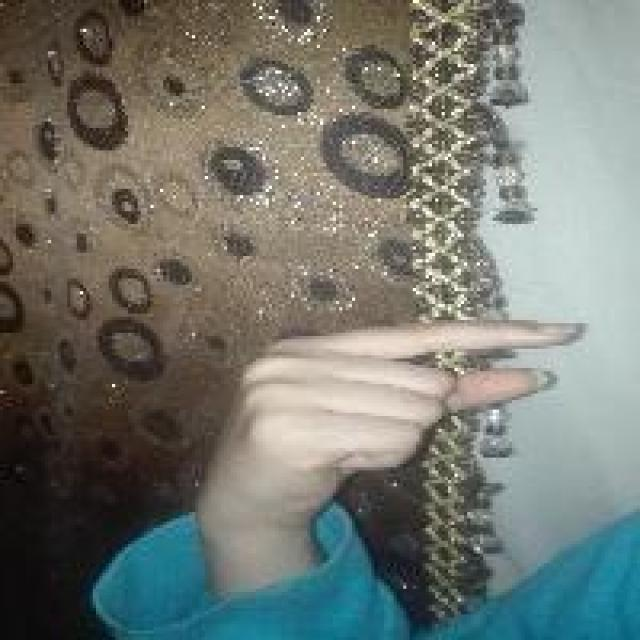G: (179, 315, 586, 533)
